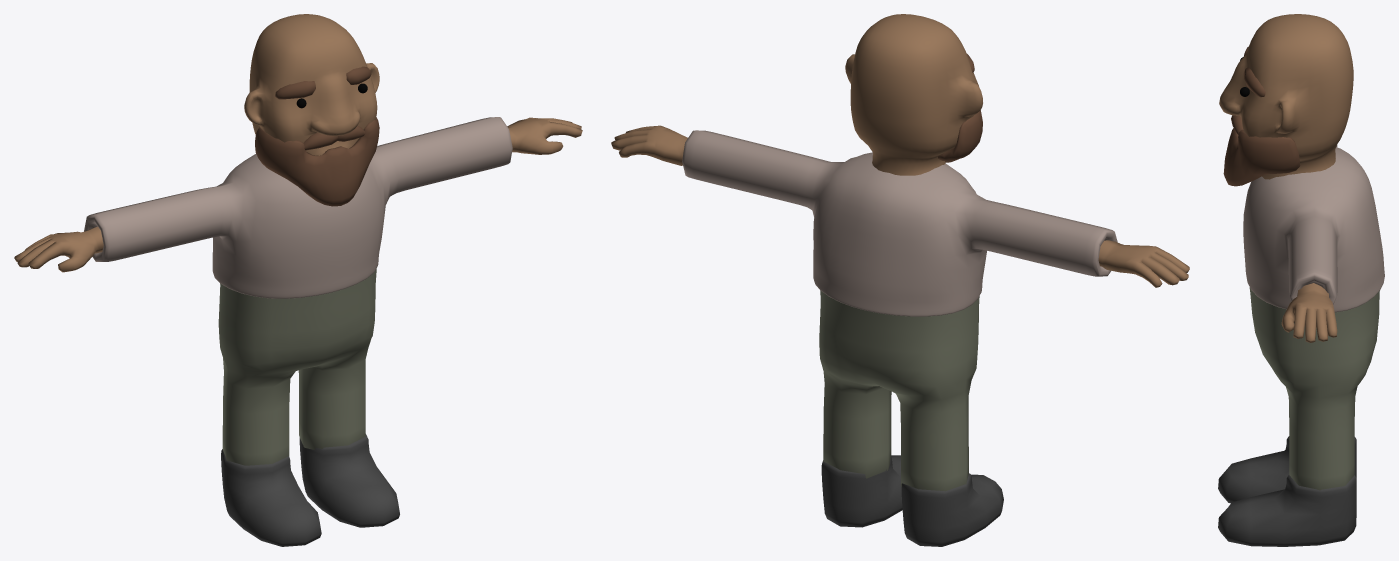
The model's file is NPC_2_Male.fbx.
3 views of the same model, side by side, from view 1: azimuth 30°, elevation 25°; view 2: azimuth 150°, elevation 25°; view 3: azimuth 270°, elevation 25° (orthographic).
Visible parts, largest first — view 1: cuerpo.004, Cube.008, cabeza.006, pies.004, cabeza.007, manos.004, cejas.005; view 2: cuerpo.004, Cube.008, cabeza.006, pies.004, manos.004, cabeza.007; view 3: cuerpo.004, cabeza.006, Cube.008, pies.004, cabeza.007, manos.004, cejas.005.
Boxes of the visible parts, x1,y1,x2,y2 form: cuerpo.004: (84,117,512,298); Cube.008: (218,268,376,465); cabeza.006: (244,14,379,155); pies.004: (221,434,399,546); cabeza.007: (255,117,379,206); manos.004: (14,117,582,272); cejas.005: (275,66,371,99); cuerpo.004: (682,130,1117,316); Cube.008: (819,290,979,491); cabeza.006: (845,14,982,175); pies.004: (821,455,1003,546); manos.004: (611,125,1189,287); cabeza.007: (938,110,982,162); cuerpo.004: (1243,144,1384,312); cabeza.006: (1219,14,1353,179); Cube.008: (1249,287,1379,490); pies.004: (1218,436,1356,546); cabeza.007: (1223,128,1300,186); manos.004: (1281,283,1337,342); cejas.005: (1243,46,1265,97).
Bounding box in the file's own units: 1.8 × 1.48 × 0.4551.
